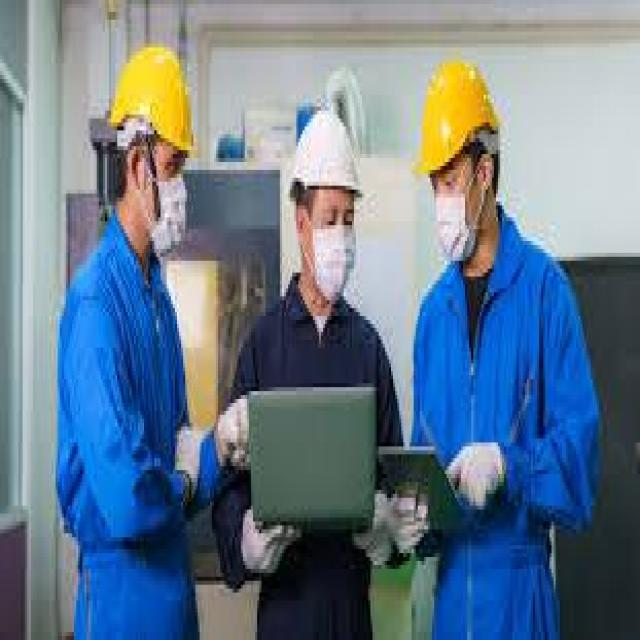Safety-Helmet: (408, 51, 510, 186), (103, 36, 200, 162), (286, 103, 368, 205)
